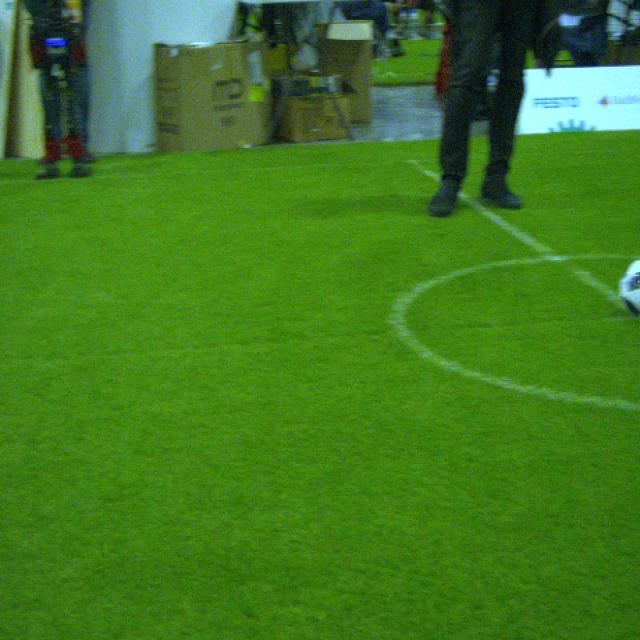ball: (617, 253, 640, 320)
